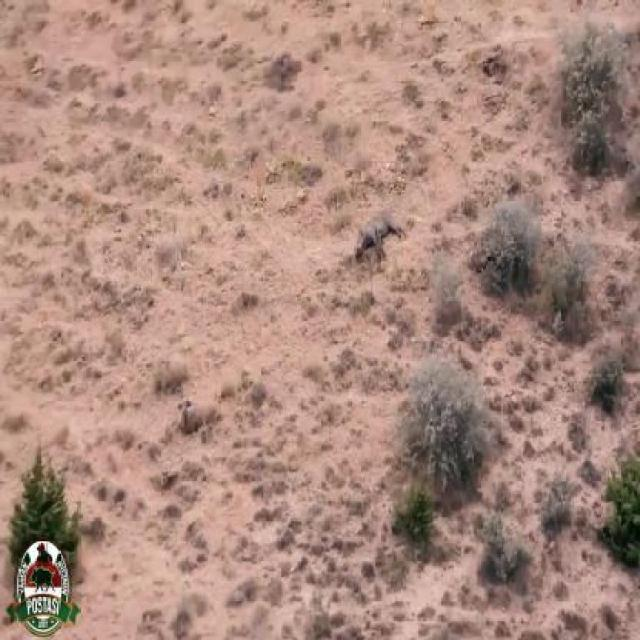pig: (352, 198, 408, 270)
